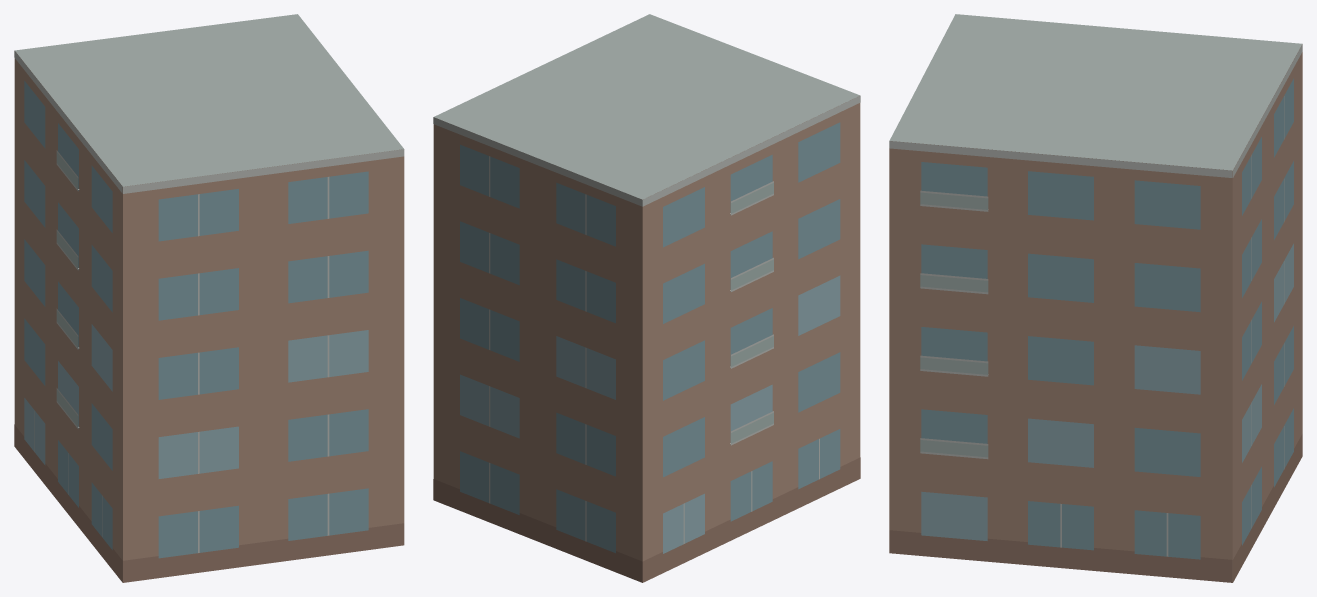
File: survey-upis-32659262.glb
3 views of the same model, side by side, from view 1: azimuth 30°, elevation 25°; view 2: azimuth 150°, elevation 25°; view 3: azimuth 270°, elevation 25° (orthographic). The views are drawn at different scales.
Parts seen in each view (by area): view 1: survey-upis-32659262.tmp; view 2: survey-upis-32659262.tmp; view 3: survey-upis-32659262.tmp.
Boxes of the visible parts, bbox=[...] form: survey-upis-32659262.tmp: bbox=[14, 14, 404, 582]; survey-upis-32659262.tmp: bbox=[433, 14, 860, 582]; survey-upis-32659262.tmp: bbox=[889, 14, 1302, 582].
Size of the model in its own units: 10.76 by 13.2 by 12.
